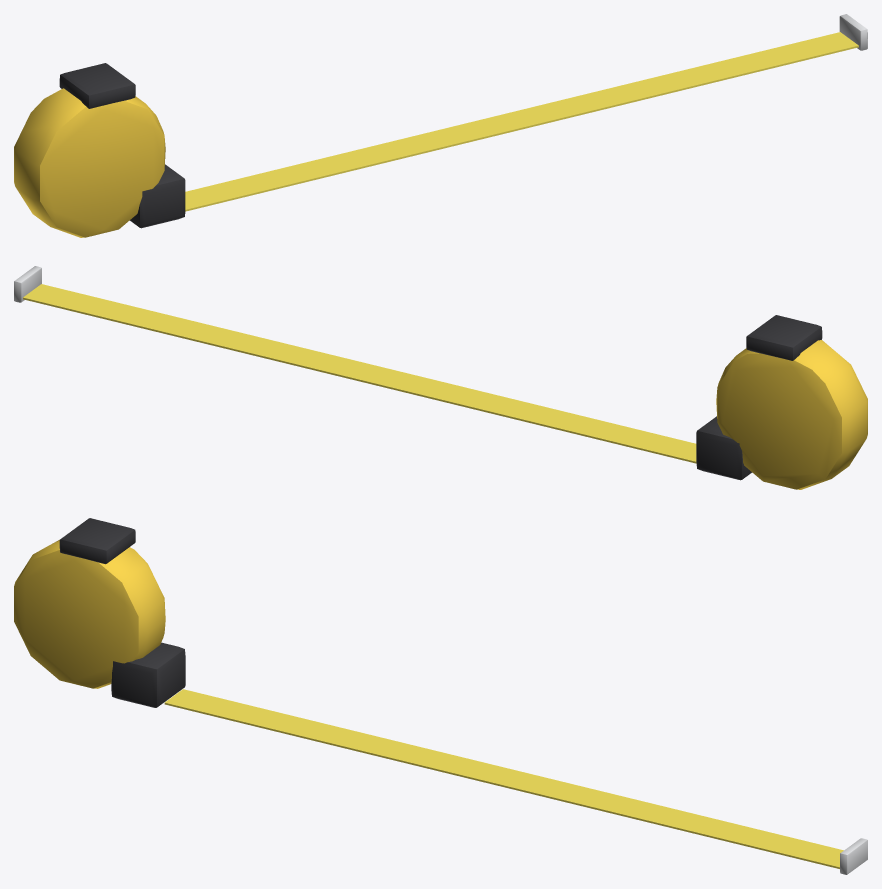
File: EQP-MAO-010_lod1.glb
3 renders of one model, top to bottom at view 1: azimuth 30°, elevation 25°; view 2: azimuth 150°, elevation 25°; view 3: azimuth 330°, elevation 25°, orthographic.
Visible parts, largest first — view 1: EQP-MAO-010_caixa, EQP-MAO-010_fita, EQP-MAO-010_trava, EQP-MAO-010_saida, EQP-MAO-010_gancho; view 2: EQP-MAO-010_caixa, EQP-MAO-010_fita, EQP-MAO-010_trava, EQP-MAO-010_saida, EQP-MAO-010_gancho; view 3: EQP-MAO-010_caixa, EQP-MAO-010_fita, EQP-MAO-010_saida, EQP-MAO-010_trava, EQP-MAO-010_gancho.
Boxes of the visible parts, left/top/right/bottom form: EQP-MAO-010_caixa: left=14, top=88, right=165, bottom=237; EQP-MAO-010_fita: left=185, top=32, right=858, bottom=211; EQP-MAO-010_trava: left=59, top=63, right=135, bottom=108; EQP-MAO-010_saida: left=130, top=164, right=185, bottom=228; EQP-MAO-010_gancho: left=839, top=14, right=867, bottom=50; EQP-MAO-010_caixa: left=716, top=340, right=867, bottom=489; EQP-MAO-010_fita: left=23, top=284, right=696, bottom=463; EQP-MAO-010_trava: left=746, top=315, right=822, bottom=360; EQP-MAO-010_saida: left=696, top=416, right=751, bottom=480; EQP-MAO-010_gancho: left=14, top=266, right=41, bottom=302; EQP-MAO-010_caixa: left=14, top=539, right=165, bottom=688; EQP-MAO-010_fita: left=164, top=689, right=843, bottom=868; EQP-MAO-010_saida: left=111, top=642, right=185, bottom=707; EQP-MAO-010_trava: left=59, top=518, right=135, bottom=564; EQP-MAO-010_gancho: left=840, top=838, right=867, bottom=874.
Size of the model in its own units: 0.4936 by 0.085 by 0.032.
